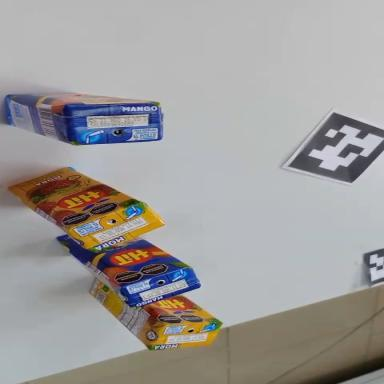HIT-MANGO: (46, 201, 206, 332), (6, 94, 163, 145)
HIT-MORA: (0, 148, 169, 275), (82, 279, 226, 362)
cara_F: (9, 147, 144, 243), (54, 234, 191, 290), (143, 292, 221, 326), (5, 92, 158, 105)
